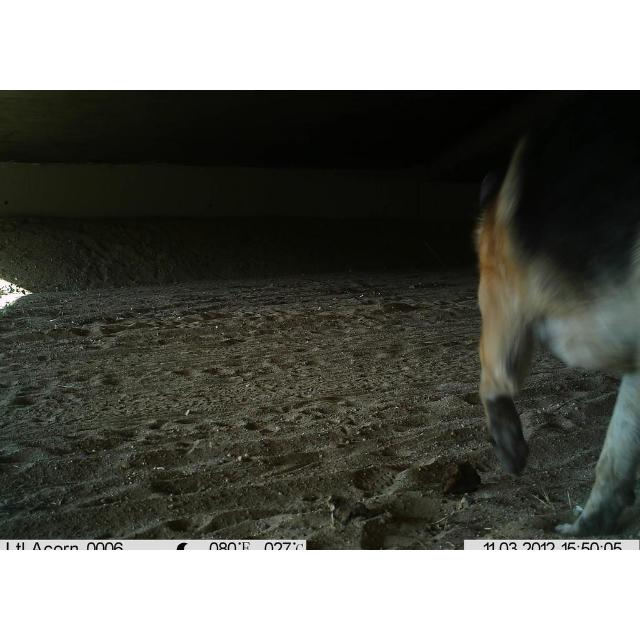animals: (472, 118, 640, 530)
